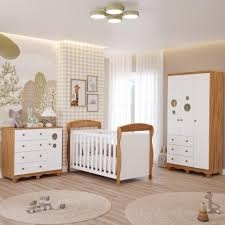crib: (67, 120, 153, 183)
